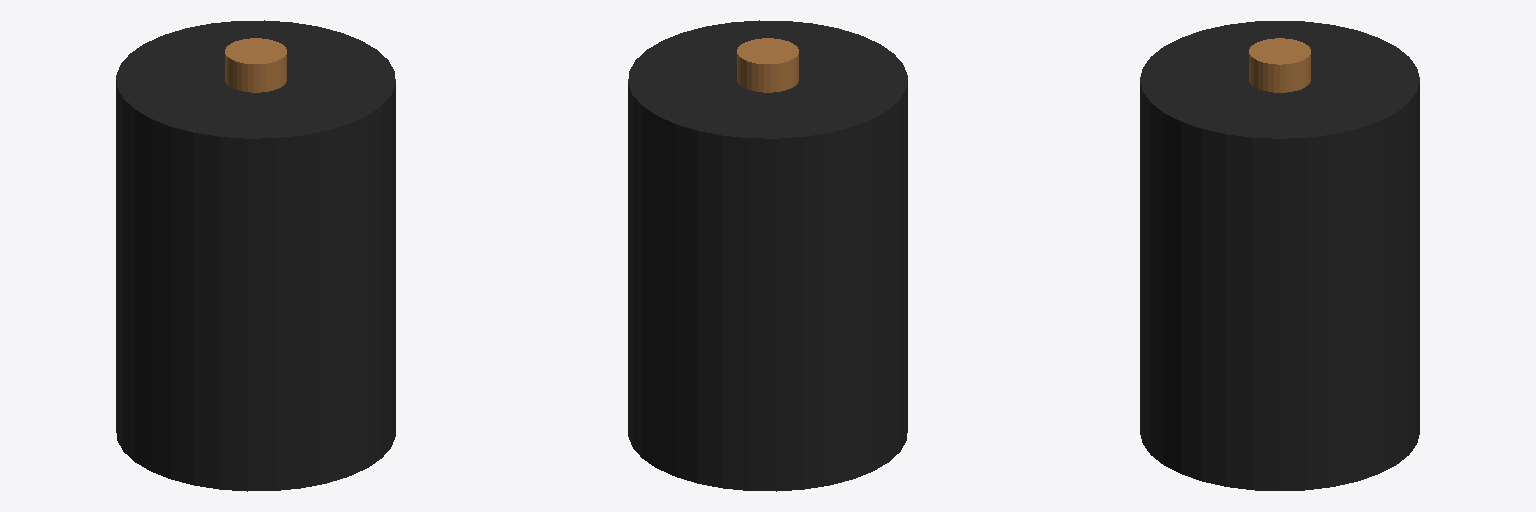
The robot description file, URDF, robot "c_battery":
<?xml version="1.0"?>
<robot name="c_battery">

  <!-- Battery cylinder body -->
  <link name="battery_body">
    <visual>
      <origin xyz="0 0 0" rpy="0 0 0" />
      <geometry>
        <cylinder radius="0.018" length="0.05" />
      </geometry>
      <material name="battery_body_mat">
        <color rgba="0.2 0.2 0.2 1.0"/>
      </material>
    </visual>
    <collision>
      <origin xyz="0 0 0" rpy="0 0 0" />
      <geometry>
        <cylinder radius="0.018" length="0.05" />
      </geometry>
    </collision>
    <inertial>
      <mass value="0.05" />
      <inertia ixx="0.0001" ixy="0" ixz="0" iyy="0.0001" iyz="0" izz="0.0001" />
    </inertial>
  </link>

  <!-- Positive terminal stem (protruding from top) -->
  <link name="positive_terminal">
    <visual>
      <origin xyz="0 0 0" rpy="0 0 0" />
      <geometry>
        <cylinder radius="0.004" length="0.004" />
      </geometry>
      <material name="terminal_mat">
        <color rgba="0.7 0.5 0.3 1.0"/>
      </material>
    </visual>
    <collision>
      <origin xyz="0 0 0" rpy="0 0 0" />
      <geometry>
        <cylinder radius="0.004" length="0.004" />
      </geometry>
    </collision>
    <inertial>
      <mass value="0.001" />
      <inertia ixx="0.00001" ixy="0" ixz="0" iyy="0.00001" iyz="0" izz="0.00001" />
    </inertial>
  </link>

  <!-- Fixed joint attaching positive terminal to battery body -->
  <joint name="terminal_joint" type="fixed">
    <parent link="battery_body"/>
    <child link="positive_terminal"/>
    <origin xyz="0 0 0.027" rpy="0 0 0"/>
  </joint>

</robot>

--- Render facts (derived) ---
Views: 3 orthographic renders of the robot side by side, from view 1: azimuth 30°, elevation 25°; view 2: azimuth 150°, elevation 25°; view 3: azimuth 270°, elevation 25°.
Robot: c_battery — 2 links, 1 joints (1 fixed); root link battery_body; default pose: all joints at 0.
Visible links, largest first — view 1: battery_body, positive_terminal; view 2: battery_body, positive_terminal; view 3: battery_body, positive_terminal.
Link boxes in pixels (x1,y1,x2,y2): battery_body: (116,20,395,491); positive_terminal: (225,38,286,92); battery_body: (628,20,907,491); positive_terminal: (737,38,798,92); battery_body: (1140,21,1419,490); positive_terminal: (1249,38,1310,92).
Size in the robot's own frame: 0.036 by 0.036 by 0.054 metres.
Geometry: primitives only (box / cylinder / sphere), no mesh files.
